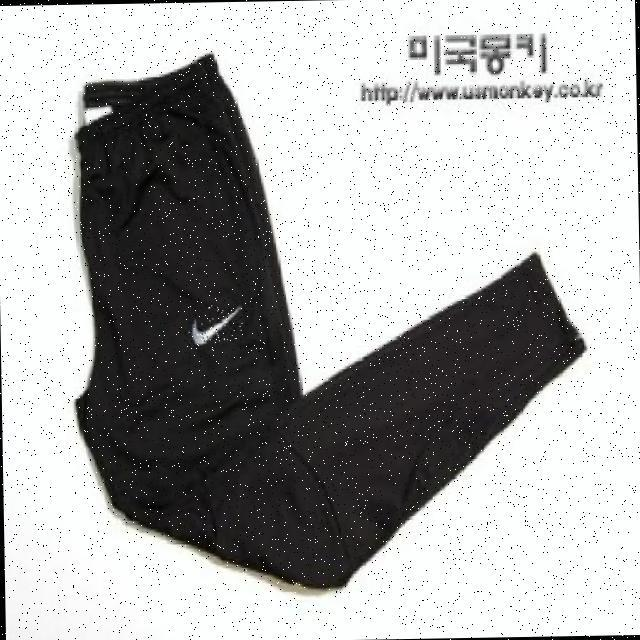Nike: (188, 305, 243, 343)
